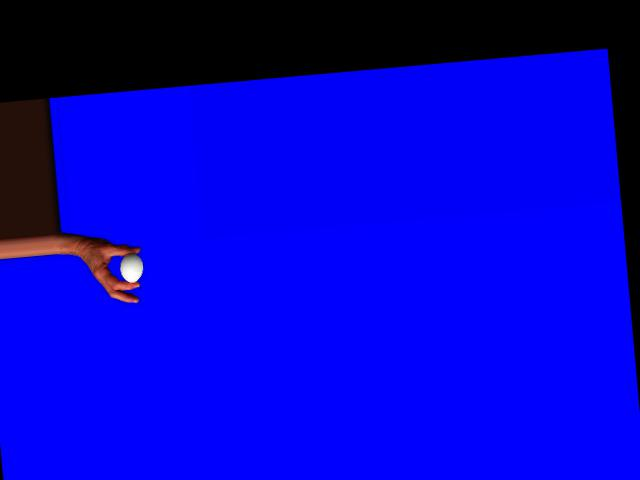egg: (119, 252, 144, 283)
